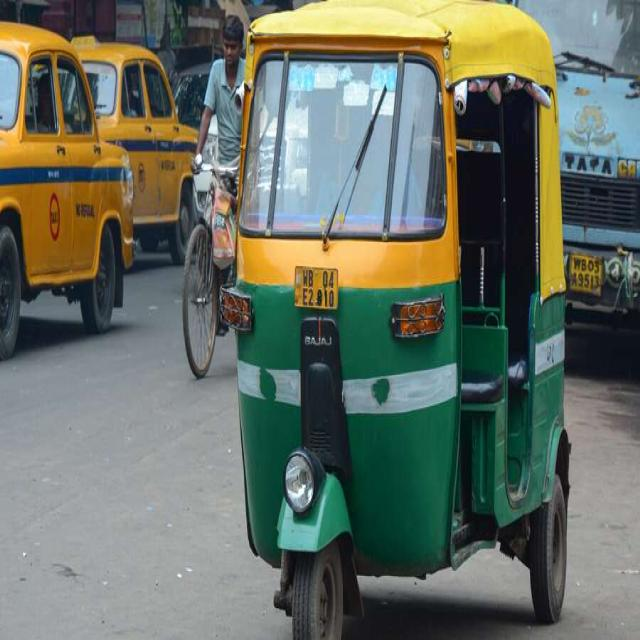autorickshaw: (221, 0, 570, 638)
bicycle: (182, 16, 245, 377)
car: (0, 22, 135, 357), (71, 36, 196, 262)
truck: (518, 0, 640, 321)
